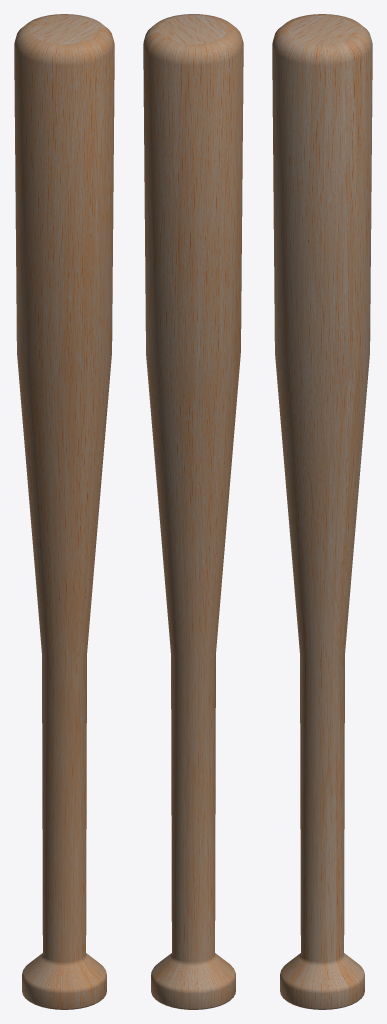
Rendered from bat.fbx.
3 views of the same model, side by side, from view 1: azimuth 90°, elevation 25°; view 2: azimuth 150°, elevation 25°; view 3: azimuth 270°, elevation 25° (orthographic).
Parts seen in each view (by area): view 1: bat; view 2: bat; view 3: bat.
Part boxes in pixels (x1=…): bat: x1=14, y1=14, x2=114, y2=1009; bat: x1=143, y1=14, x2=243, y2=1009; bat: x1=272, y1=14, x2=372, y2=1009.
Bounding box in the file's own units: 8.32 × 87.89 × 8.32.
Materials: 1 (1 with a texture image).
